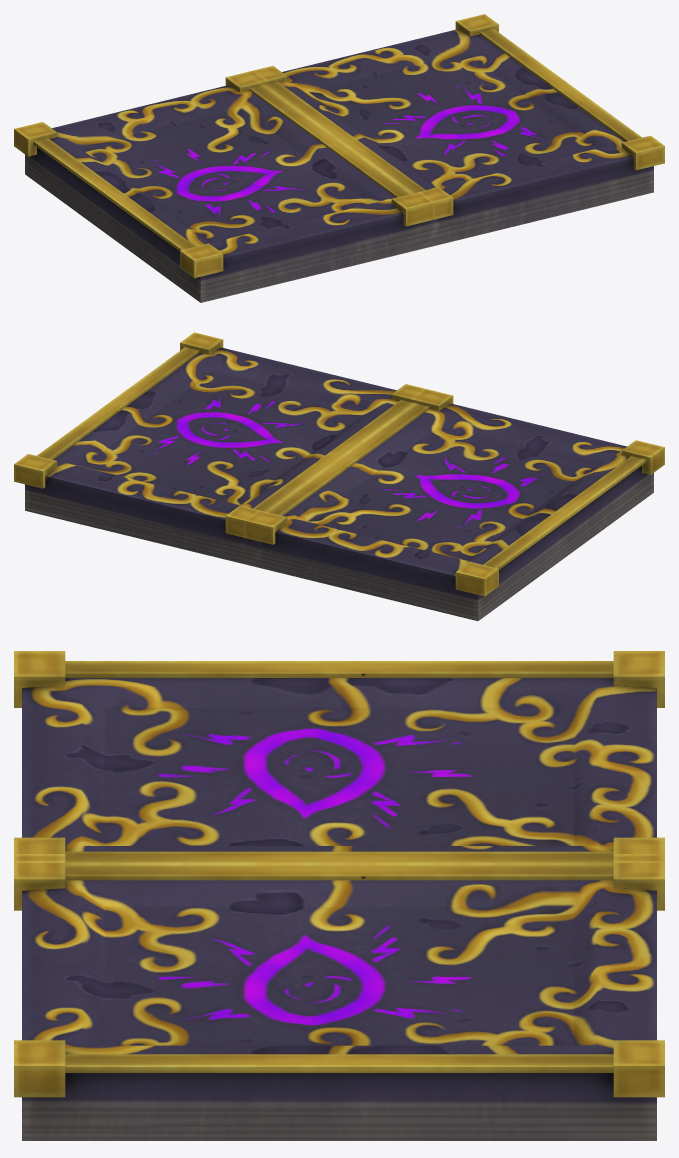
Rendered from Book.glb.
3 renders of one model, top to bottom at view 1: azimuth 30°, elevation 25°; view 2: azimuth 150°, elevation 25°; view 3: azimuth 270°, elevation 25°, orthographic. The views are drawn at different scales.
Parts seen in each view (by area): view 1: Book; view 2: Book; view 3: Book.
Boxes of the visible parts, x1,y1,x2,y2 form: Book: [14, 14, 664, 302]; Book: [14, 332, 664, 620]; Book: [14, 651, 664, 1140].
Size of the model in its own units: 0.791 by 0.0973 by 0.5247.
Materials: 1 (1 with a texture image).
